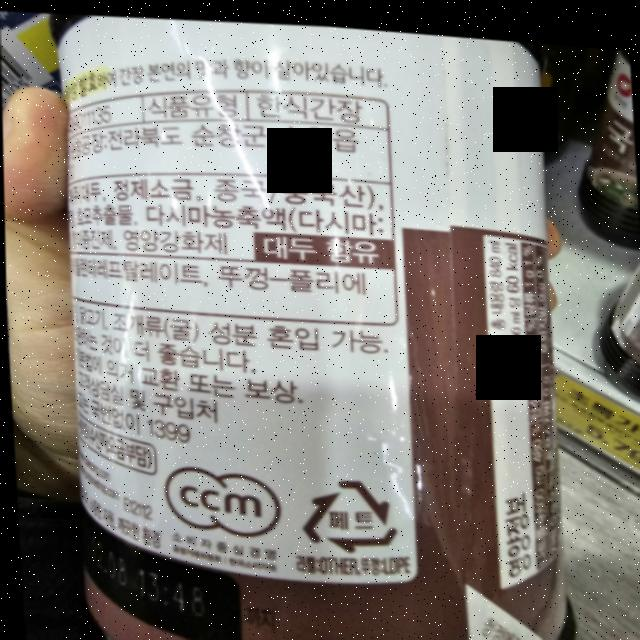PET: (283, 466, 403, 553)
